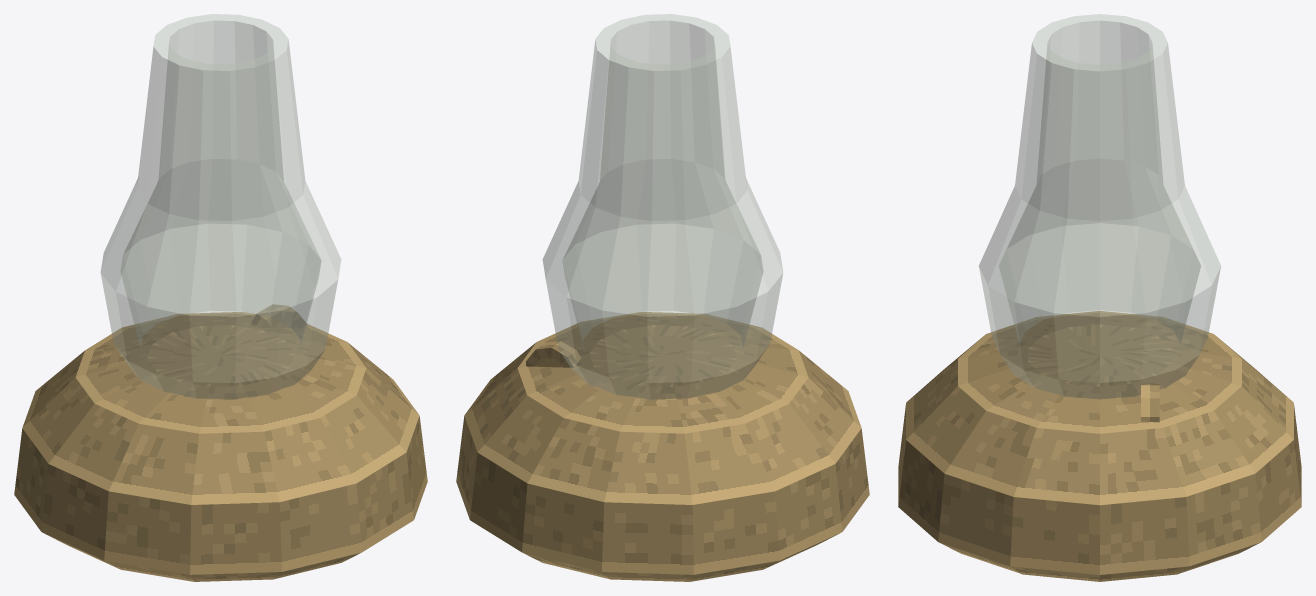
The model's file is oil_lamp.glb.
3 views of the same model, side by side, from view 1: azimuth 30°, elevation 25°; view 2: azimuth 150°, elevation 25°; view 3: azimuth 270°, elevation 25° (orthographic).
Parts seen in each view (by area): view 1: block_kerosene font, block_open glass chimney, block_wick wheel; view 2: block_kerosene font, block_open glass chimney, block_wick wheel; view 3: block_kerosene font, block_open glass chimney, block_wick wheel.
Part boxes in pixels (x1,y1,x2,y2): block_kerosene font: (14,312,427,581); block_open glass chimney: (100,14,341,399); block_wick wheel: (251,304,307,328); block_kerosene font: (456,312,869,581); block_open glass chimney: (542,14,783,399); block_wick wheel: (526,341,580,367); block_kerosene font: (898,311,1301,581); block_open glass chimney: (979,14,1220,399); block_wick wheel: (1141,383,1159,422).
Size of the model in its own units: 0.1519 by 0.188 by 0.1481.
3 materials, 3 textured.
